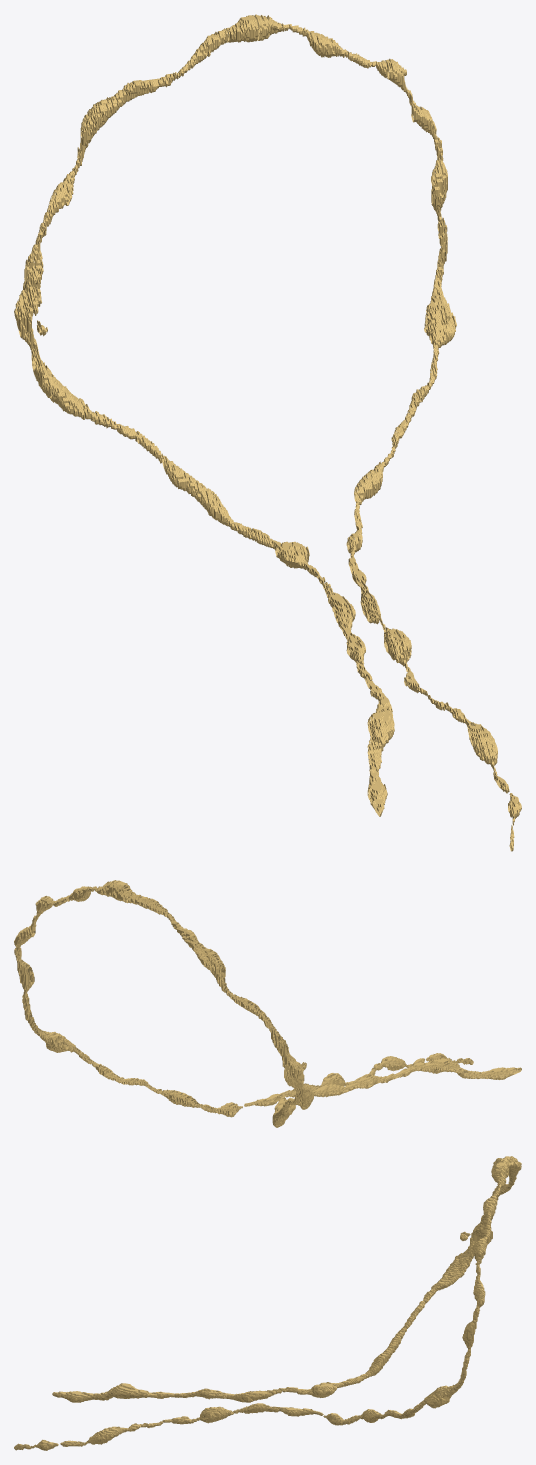
The model's file is SVV_AVKL.gltf.
The picture shows the model from 3 angles, top to bottom: view 1: azimuth 30°, elevation 25°; view 2: azimuth 150°, elevation 25°; view 3: azimuth 270°, elevation 25°; orthographic projection. The views are drawn at different scales.
Parts seen in each view (by area): view 1: AVKL; view 2: AVKL; view 3: AVKL.
Part boxes in pixels (x1=…): AVKL: x1=14, y1=14, x2=521, y2=851; AVKL: x1=14, y1=880, x2=521, y2=1127; AVKL: x1=14, y1=1156, x2=521, y2=1450.
Bounding box in the file's own units: 135910 × 158985 × 226002.
